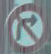Don't turn right: (7, 5, 46, 53)
